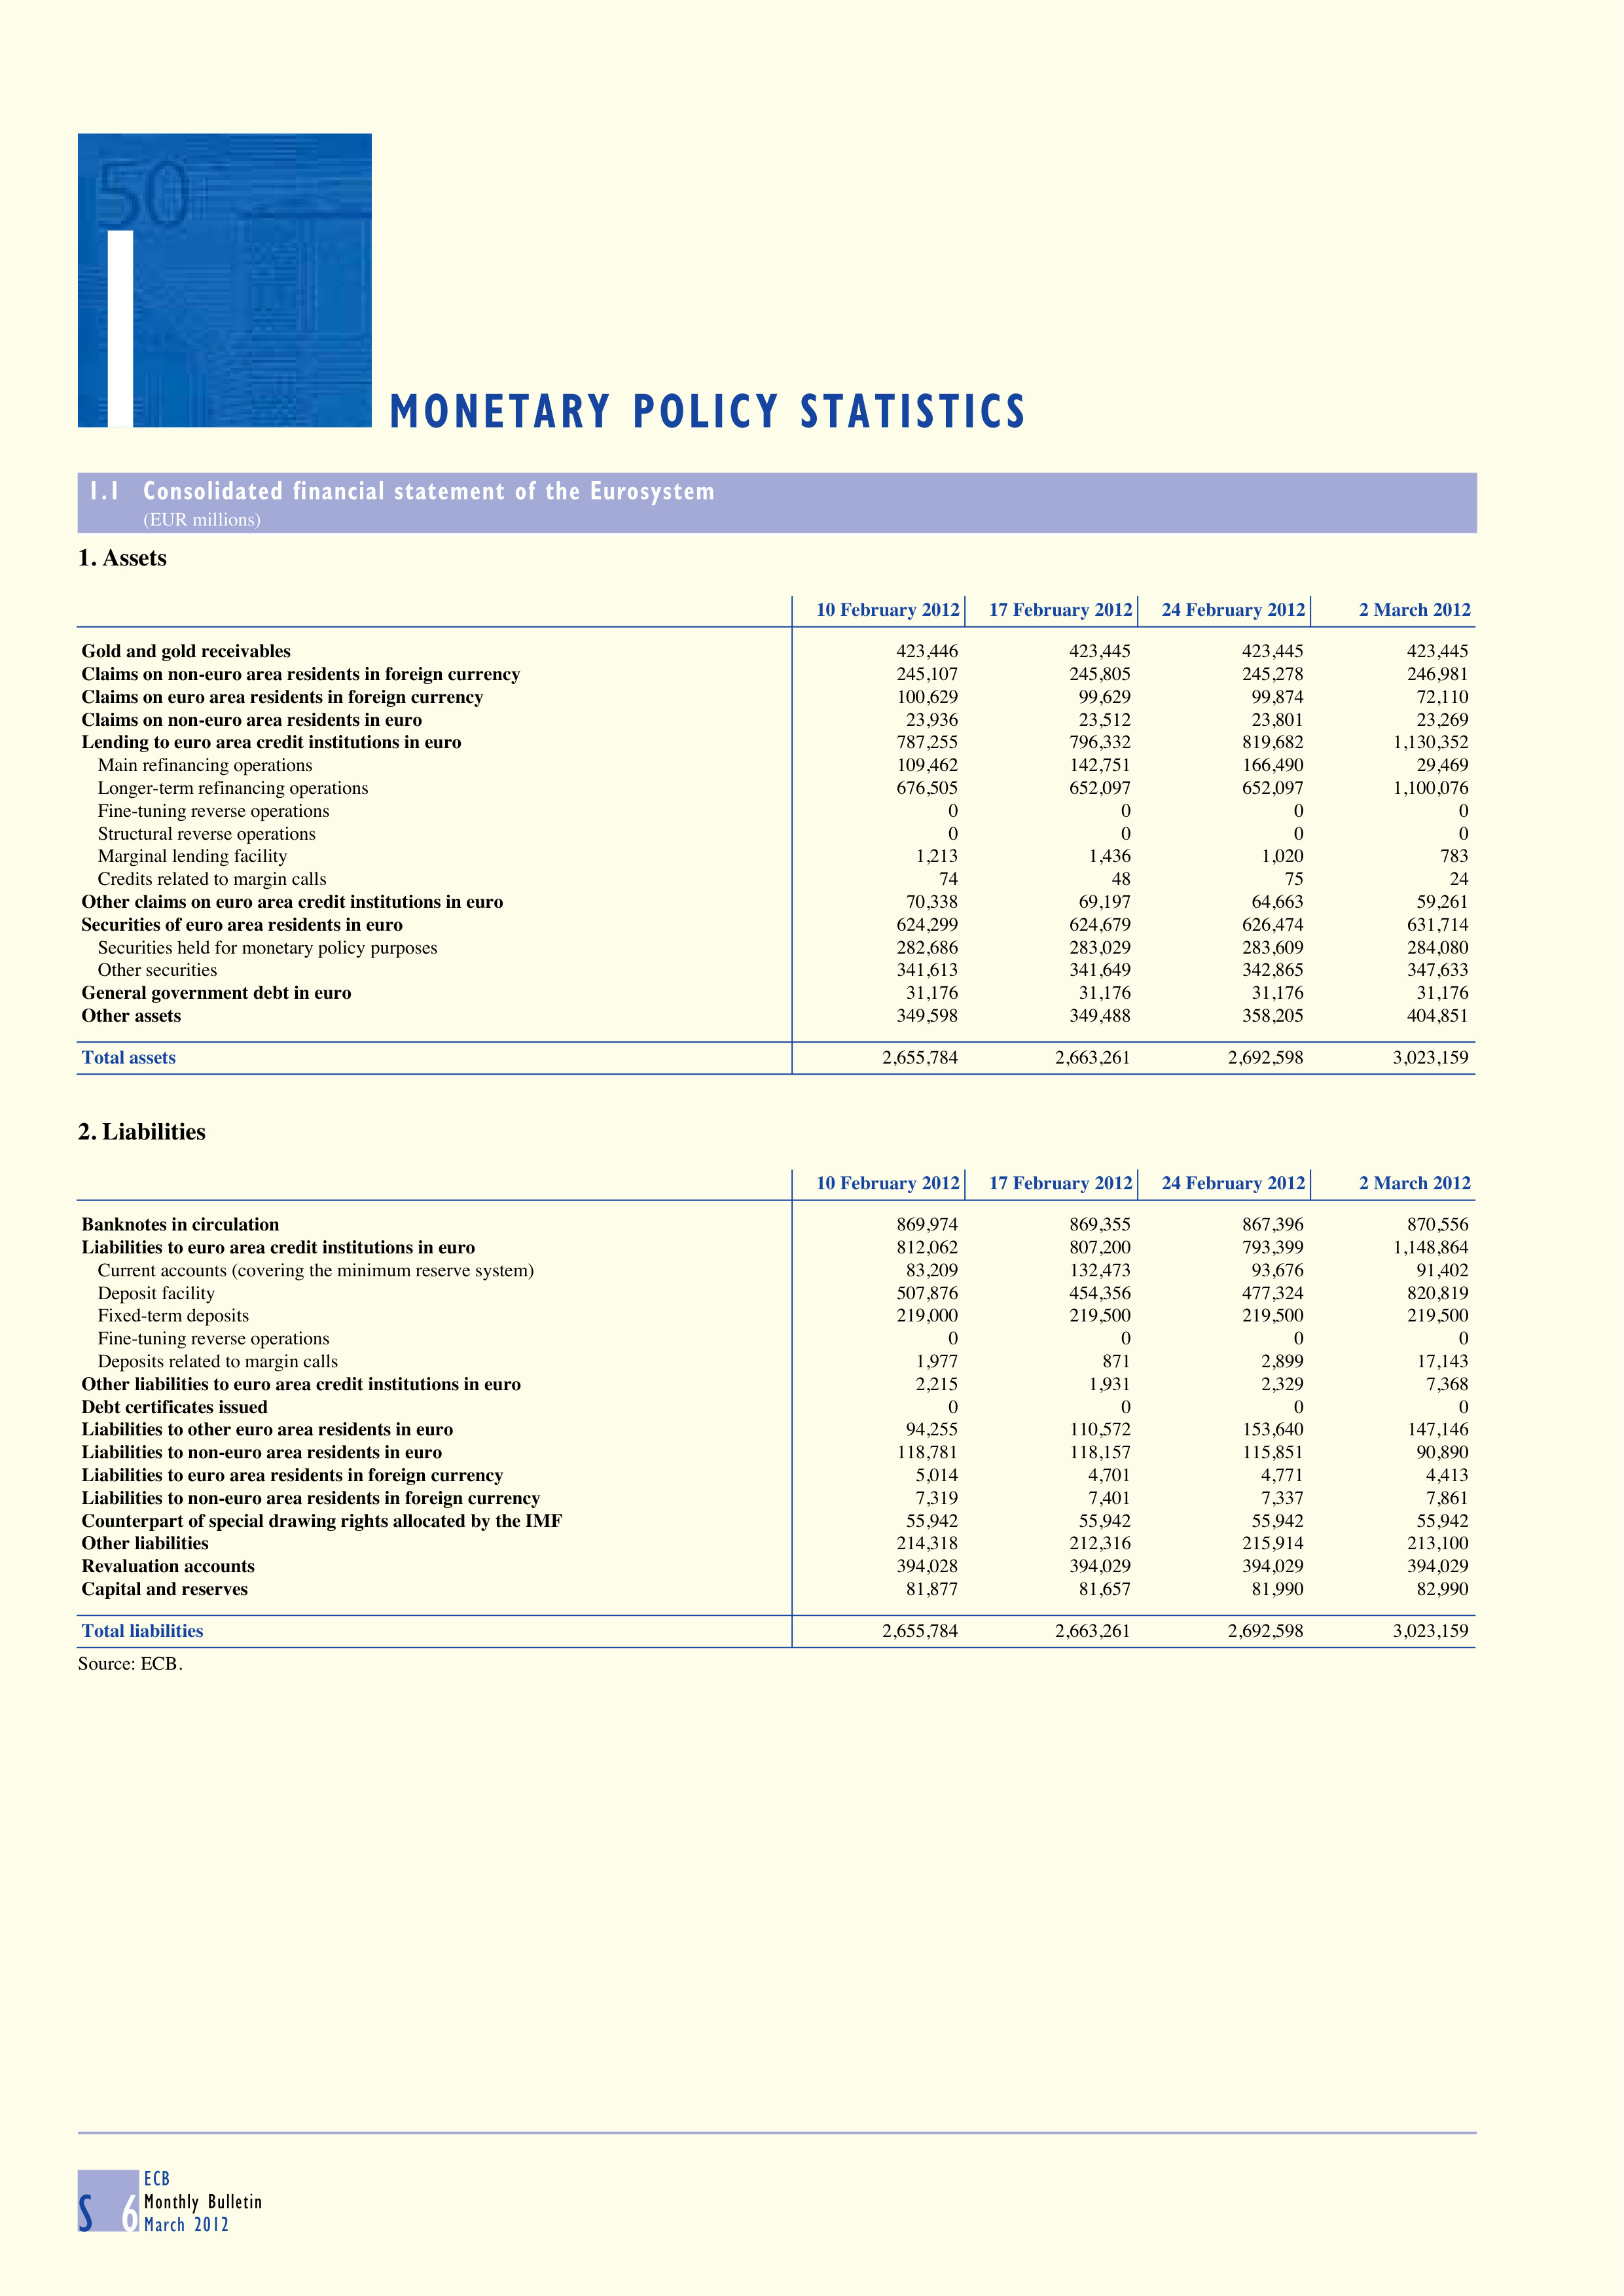table: (81, 601, 1471, 1068), (81, 1175, 1471, 1641)
